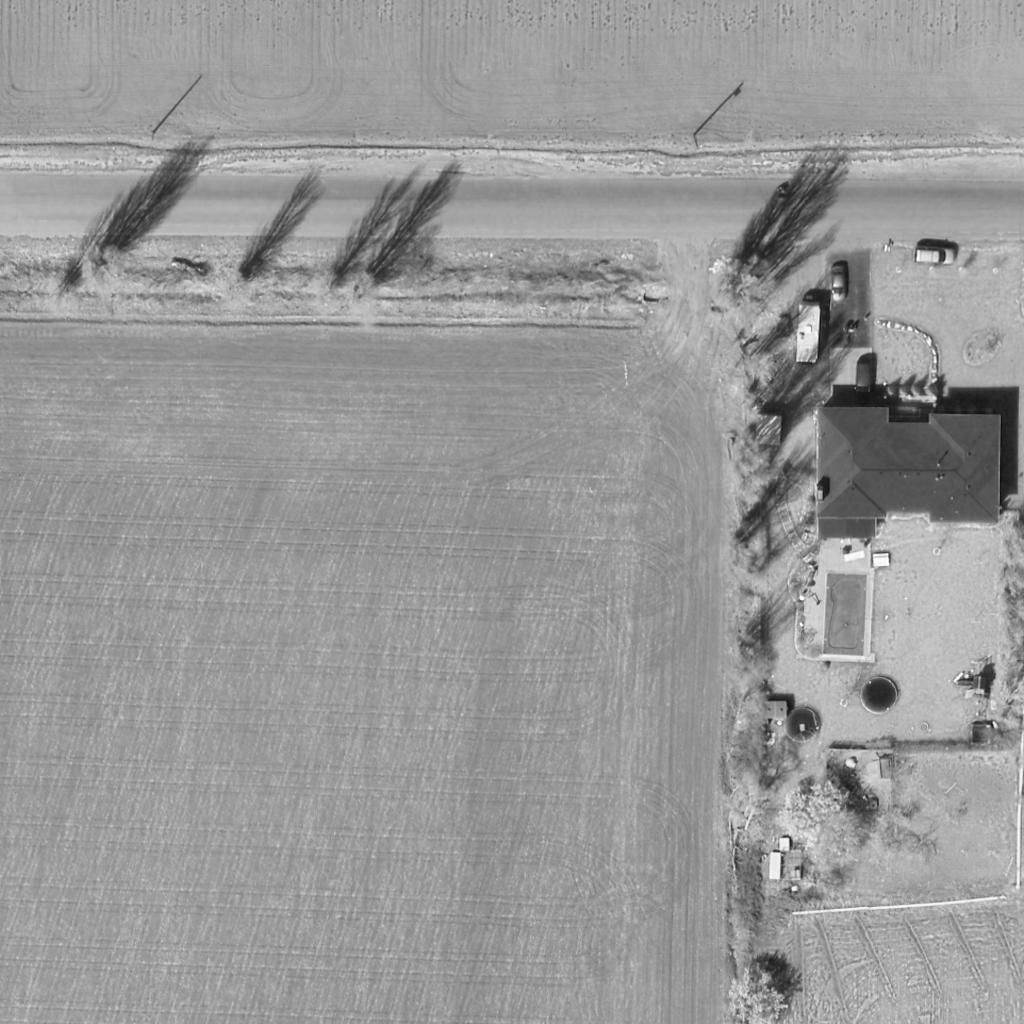vehicle: (794, 295, 822, 363), (853, 361, 873, 403), (914, 249, 960, 265), (831, 267, 847, 303)
